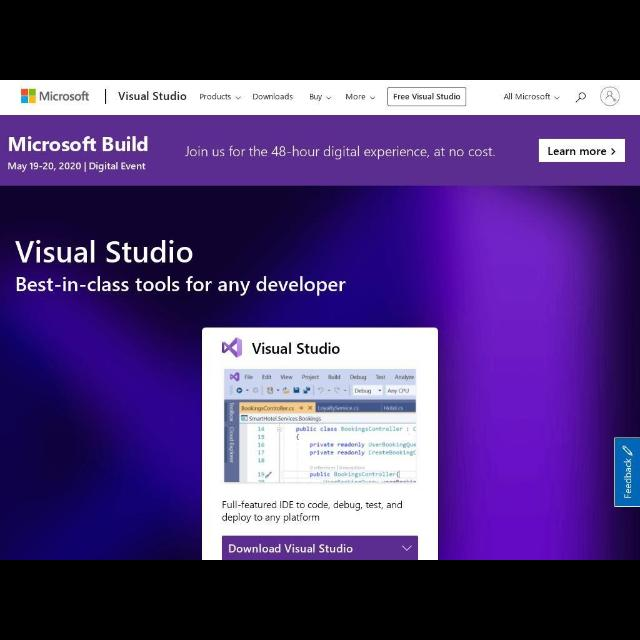icon: (598, 85, 620, 106), (573, 90, 587, 104), (402, 544, 412, 554), (610, 147, 618, 157), (369, 95, 376, 101), (555, 95, 561, 102), (236, 95, 240, 102), (326, 96, 330, 102)
iframe: (2, 116, 640, 184)
image: (224, 368, 416, 484), (20, 86, 90, 106), (222, 337, 242, 358)
spinner: (222, 536, 420, 558), (503, 91, 559, 103), (198, 91, 242, 102), (344, 91, 376, 102), (308, 91, 332, 102)
text: (13, 274, 347, 298), (12, 234, 194, 270), (222, 498, 402, 522), (188, 148, 497, 160), (7, 134, 149, 154), (228, 544, 354, 556), (6, 161, 146, 171), (252, 342, 340, 356), (119, 90, 187, 102), (393, 93, 459, 101), (546, 148, 606, 156), (252, 92, 292, 102), (505, 93, 551, 101), (344, 92, 366, 101), (200, 94, 232, 100), (310, 92, 322, 102)
textbutton: (538, 139, 628, 163), (387, 86, 467, 105)
toolbar: (3, 81, 639, 113)
